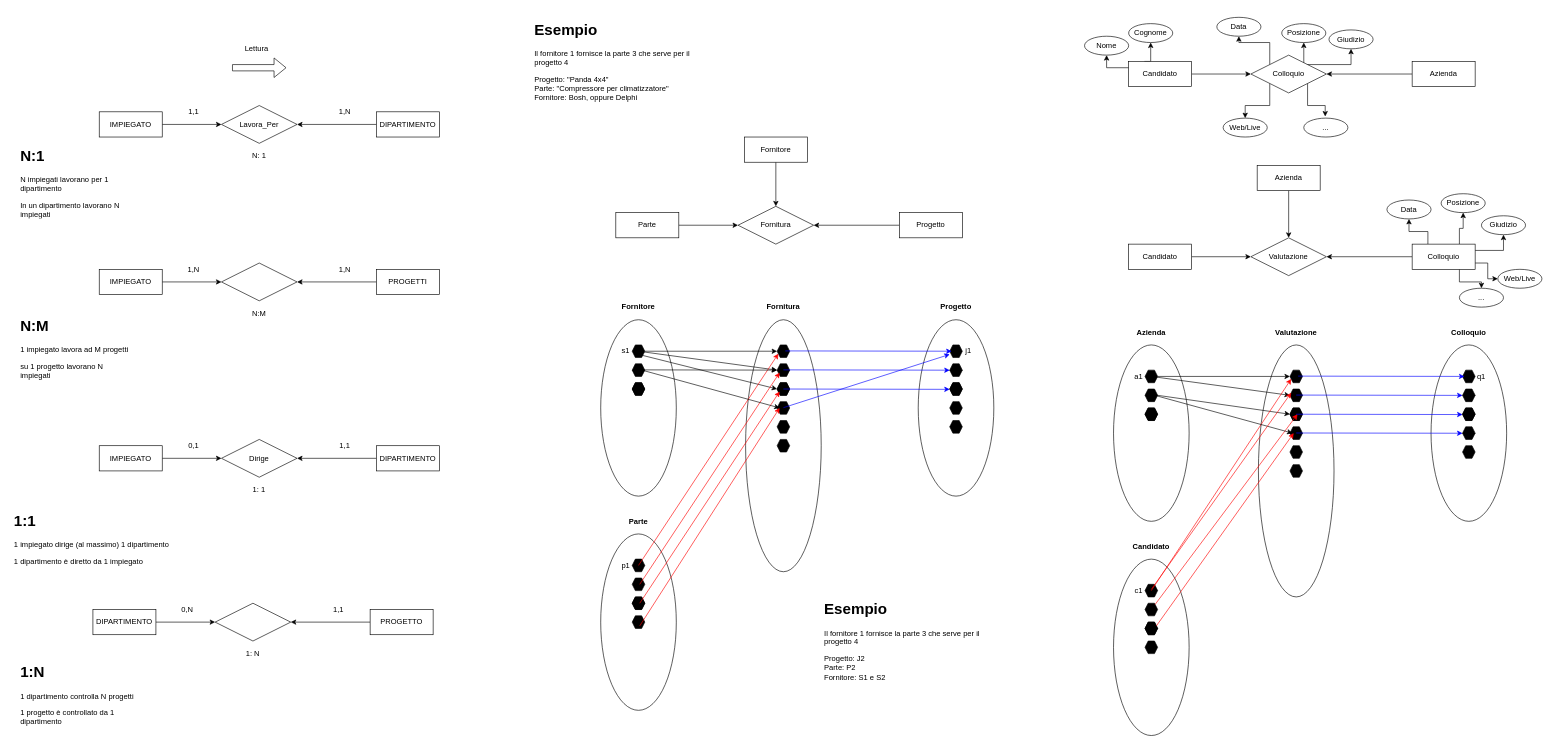
This 1553x747 diagram has some shape labels left out. The shapes that lost their labels are listed below. From the top down, each one's centre as x and y in pixels, then its label:
the point at 259,281: Lavora_Su
the point at 253,622: Controlla
